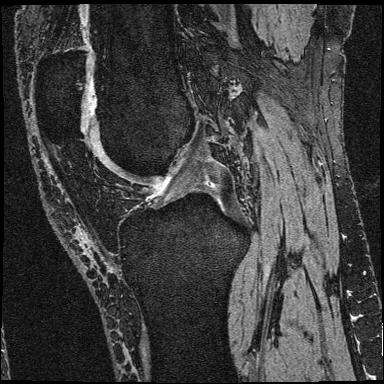SagKneeJointArea: (32, 49, 251, 279)
